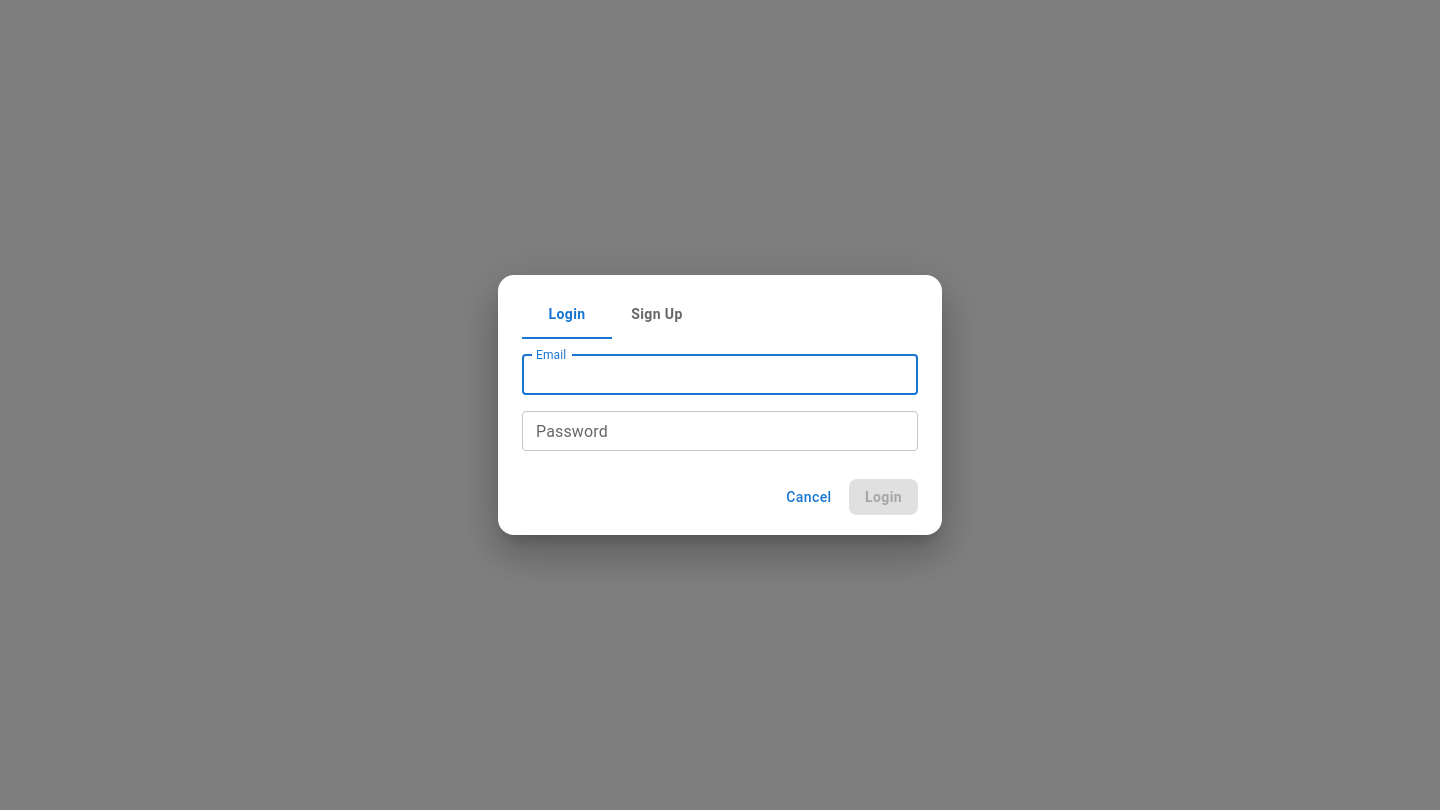
Test: LoginDialog › clears error when switching tabs
The image size is (1440, 810).
Type "a@b.c" into the field labelled "Email" at [720, 375], box x1=522 y1=355 x2=918 y2=395
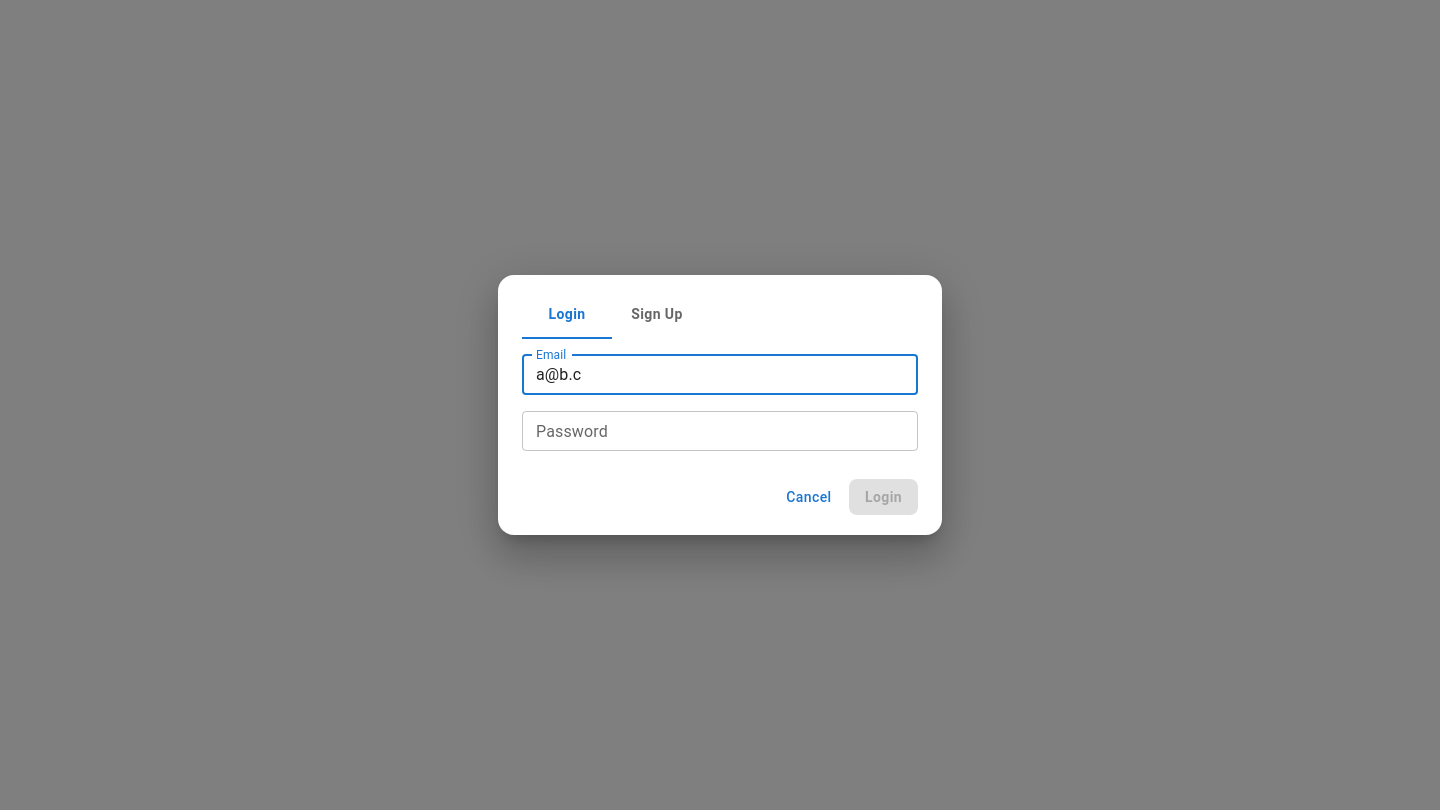
Type "bad" into the password field labelled "Password" at [720, 431], box x1=522 y1=411 x2=918 y2=451
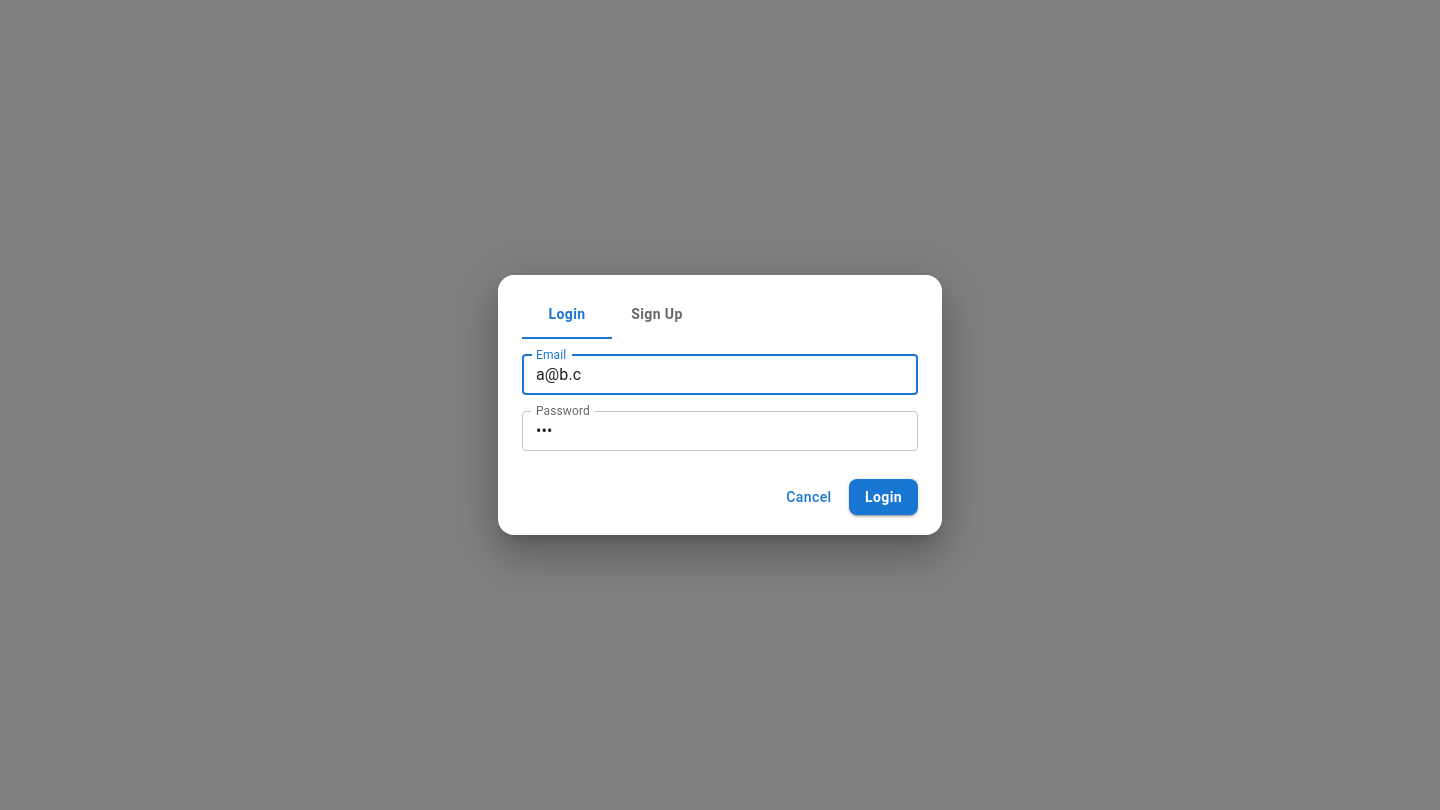
Click the button "Login" at [883, 497], box x1=849 y1=479 x2=918 y2=515
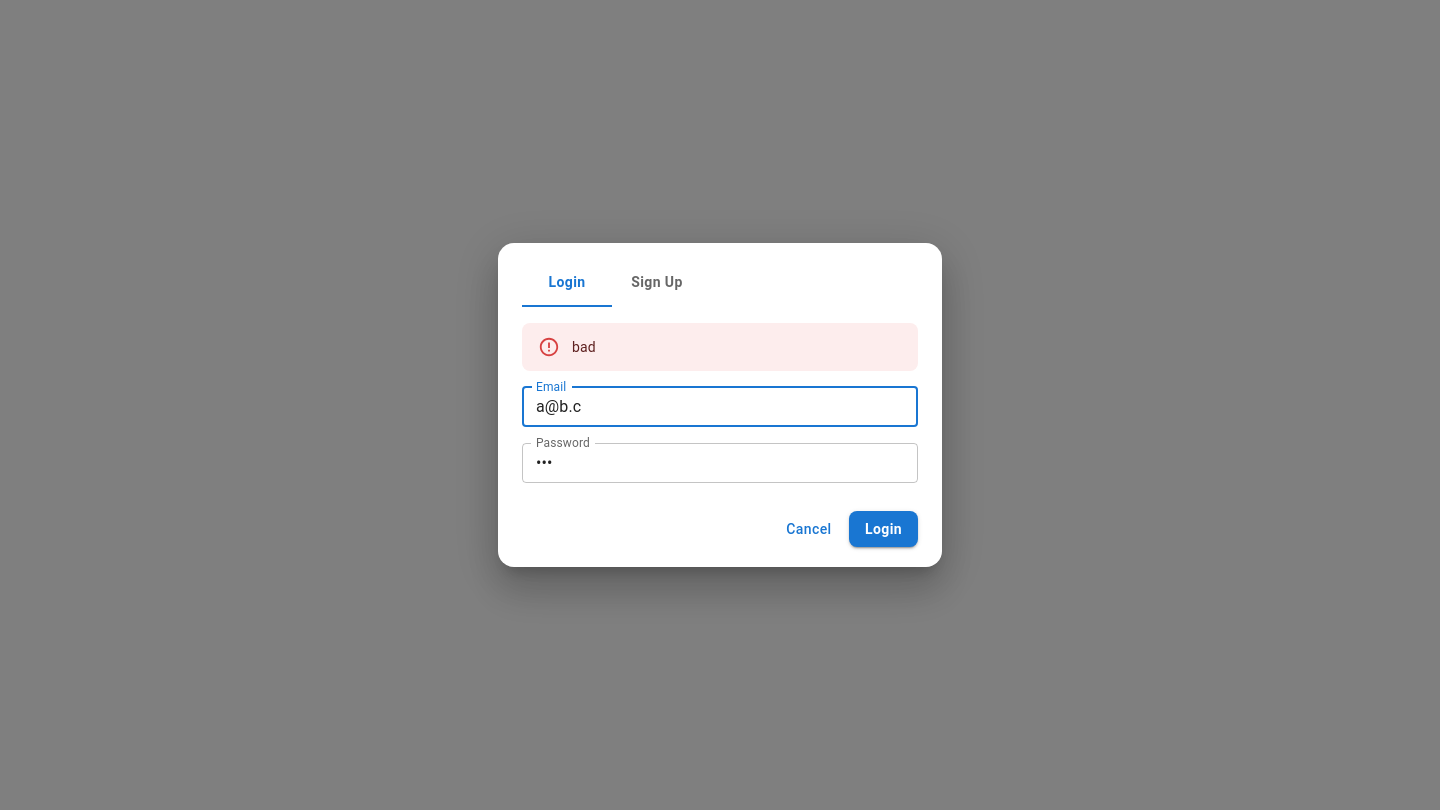
Check: the text "bad" is shown, box x1=572 y1=339 x2=596 y2=355
Click the tab "Sign Up" at [657, 283], box x1=612 y1=259 x2=702 y2=307
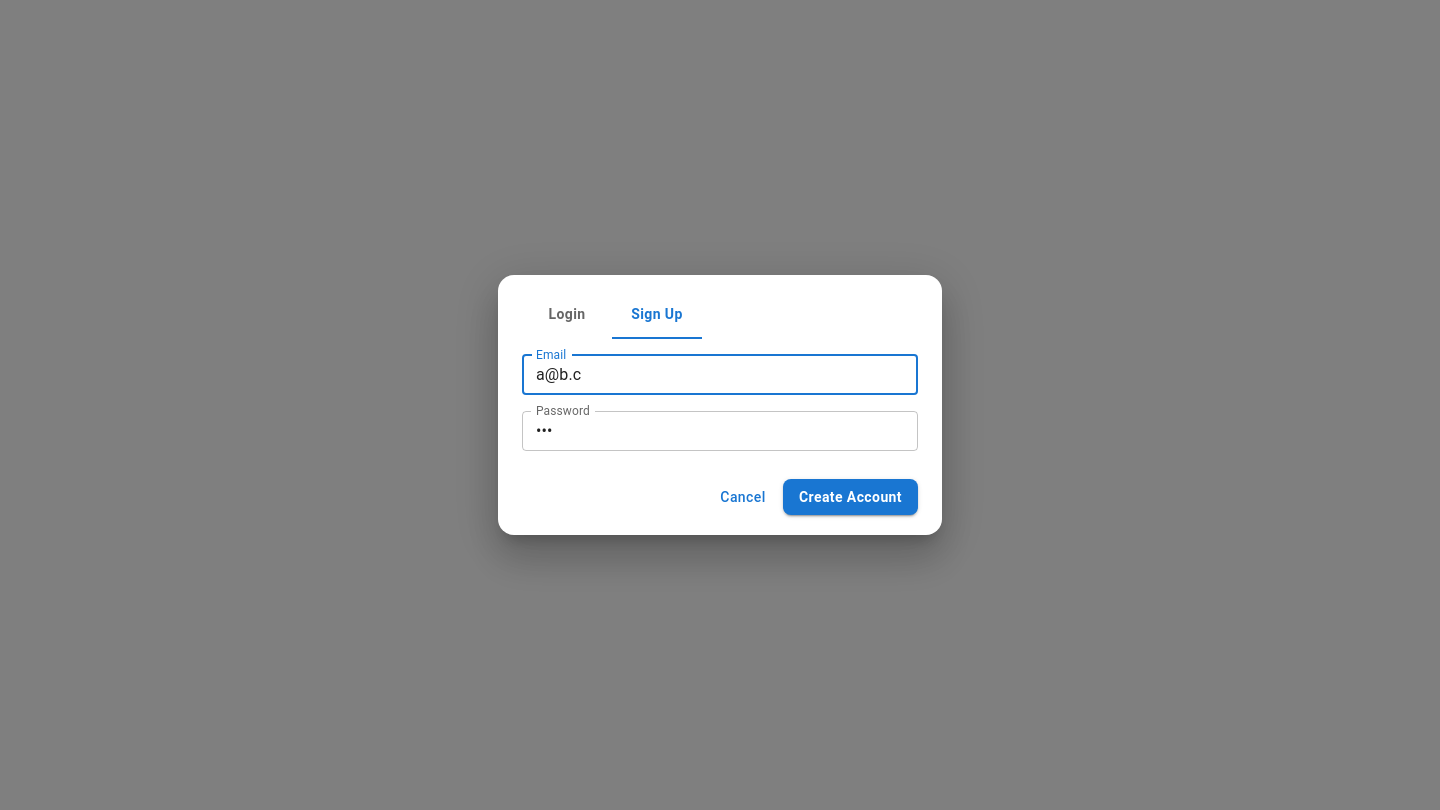
Check: the text "bad" is gone
